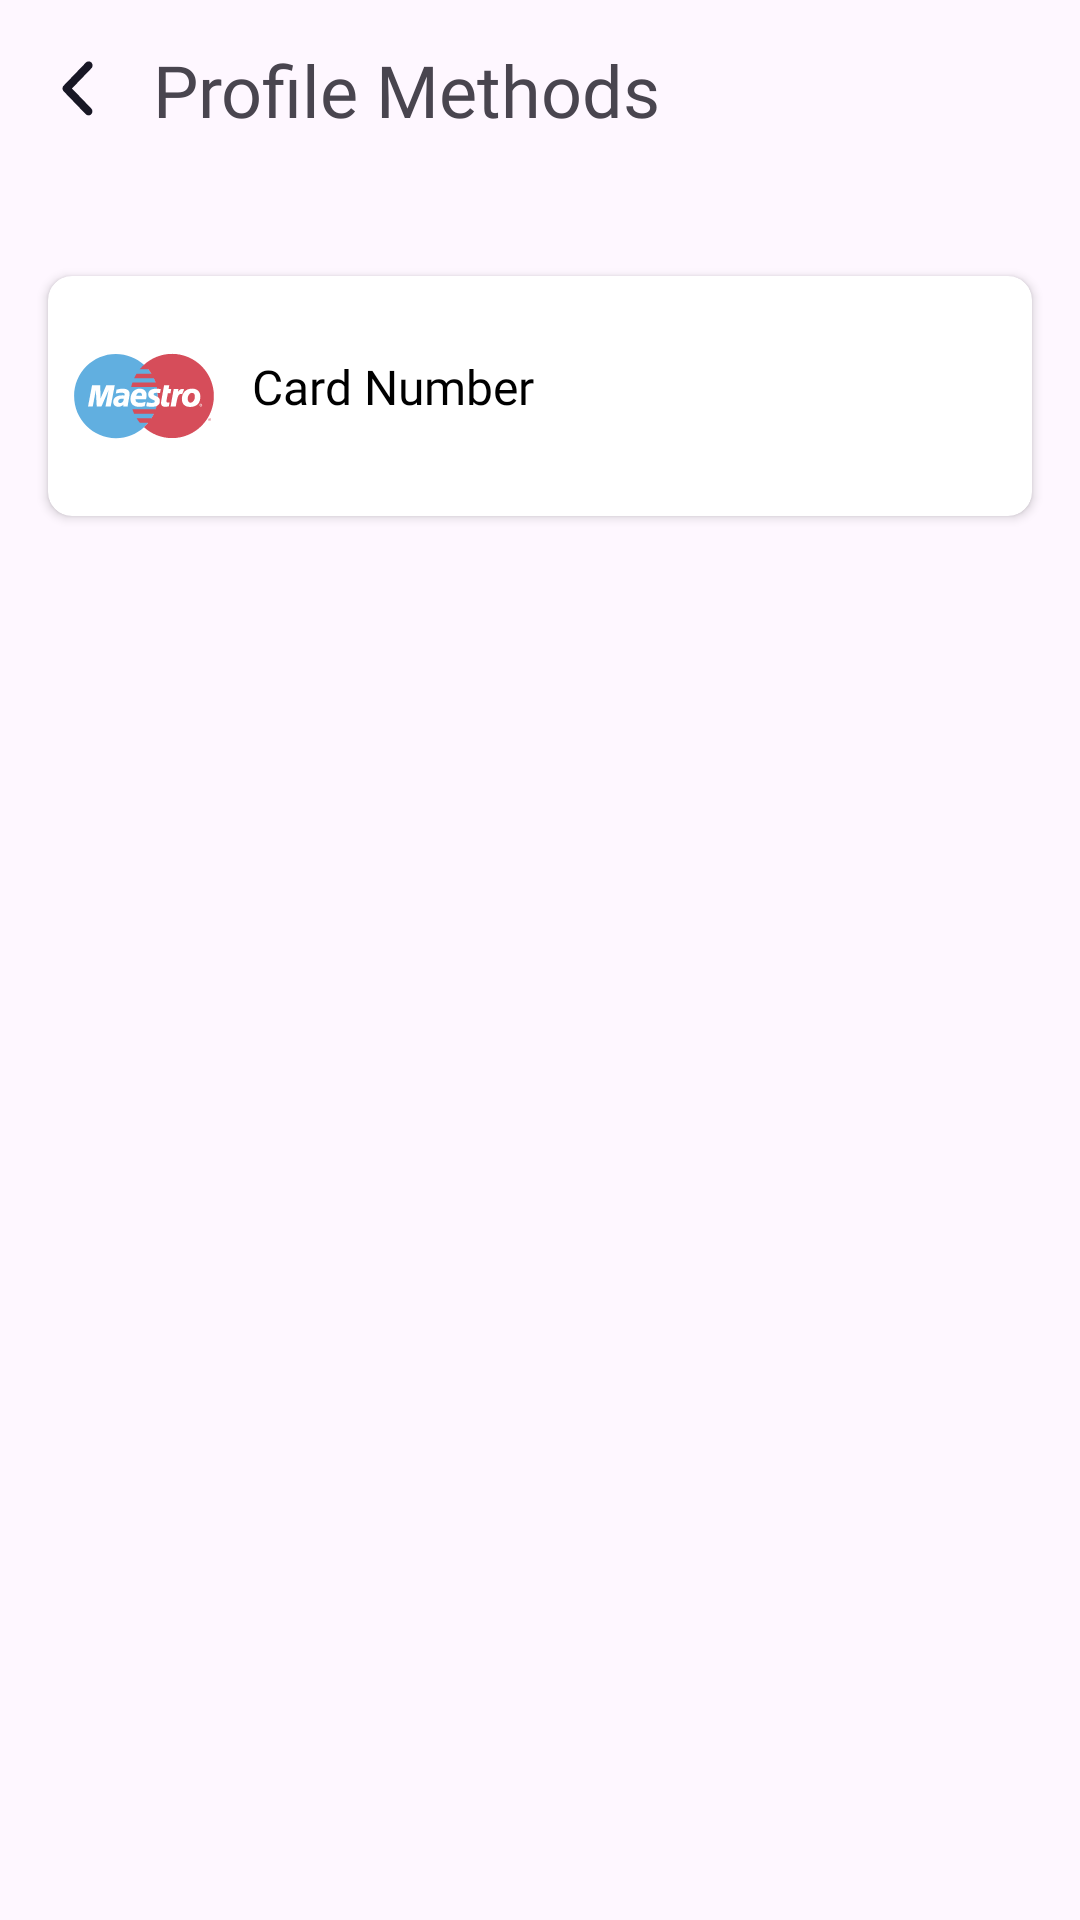

Named icons in this screenshot (1080*1920) and their bounding boxes, (x1, y1, x2, y2):
back: (62, 61, 93, 116)
